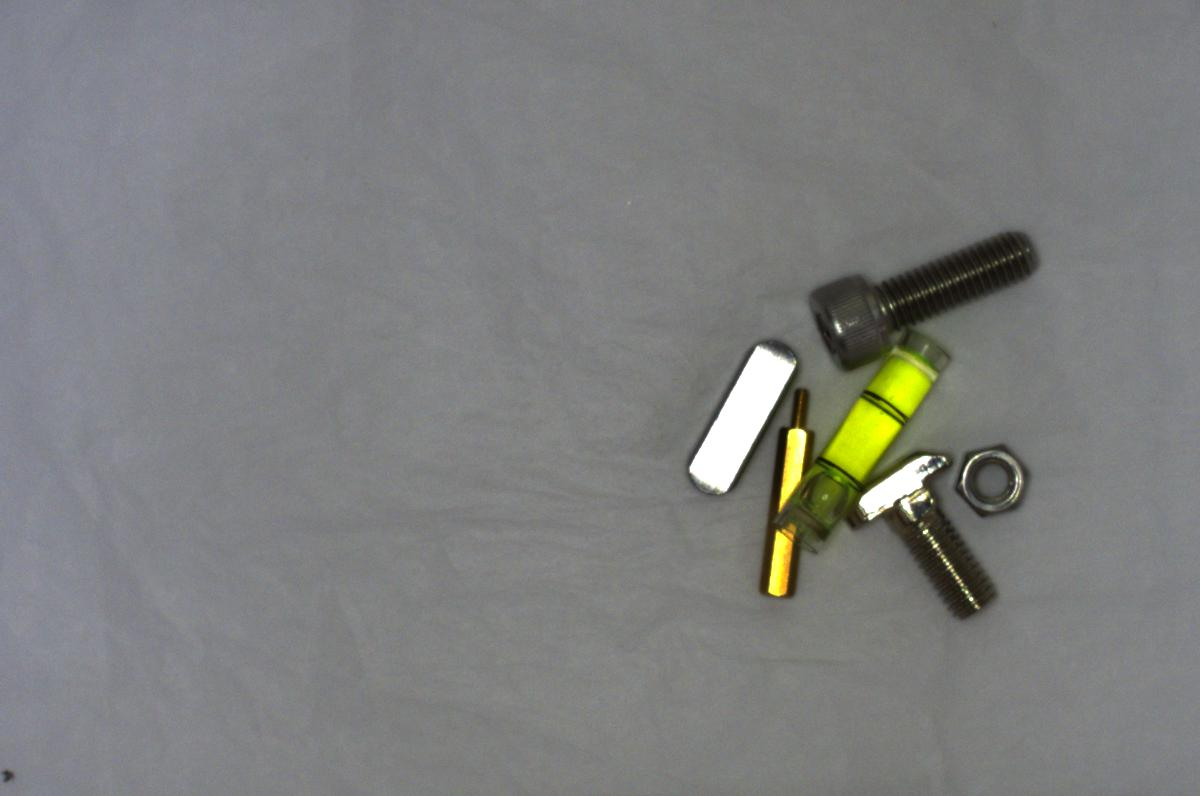Hexagon nut: (944, 435, 1044, 524)
Hexagon pillar: (751, 381, 823, 612)
Hexagon screw: (796, 214, 1044, 378)
Horizontal bubble: (765, 326, 958, 556)
Keybar: (673, 328, 805, 503)
T-shaped screw: (843, 436, 1003, 627)
